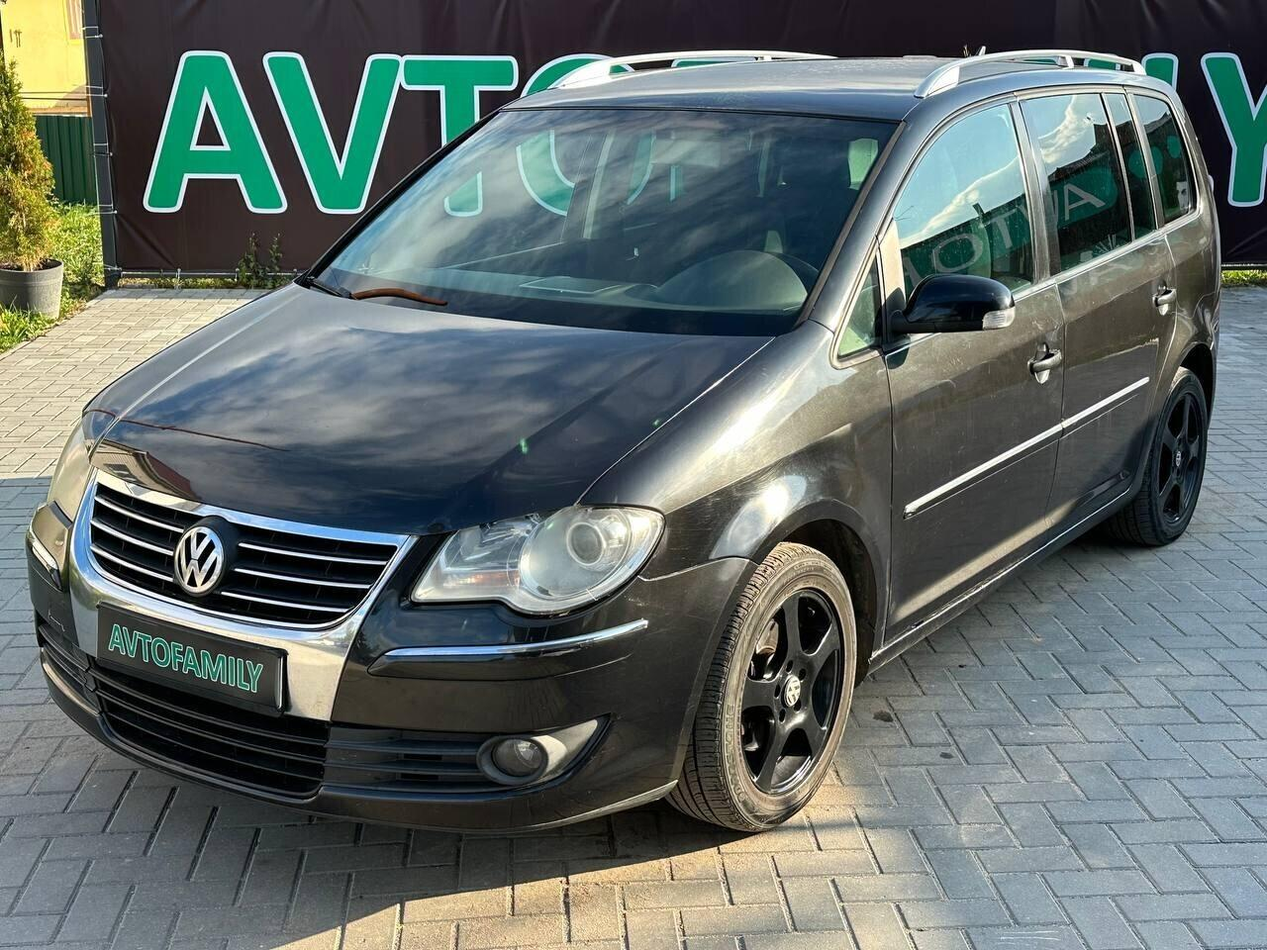Touran_2006-2010: (25, 54, 1229, 839)
